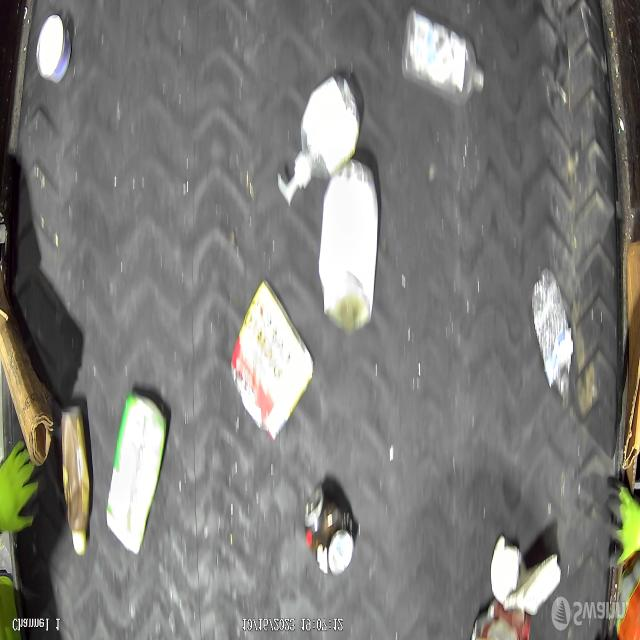can: (318, 156, 380, 337), (304, 486, 358, 574), (37, 16, 73, 84)
plastic_bottle: (398, 6, 484, 109), (528, 268, 574, 400)
